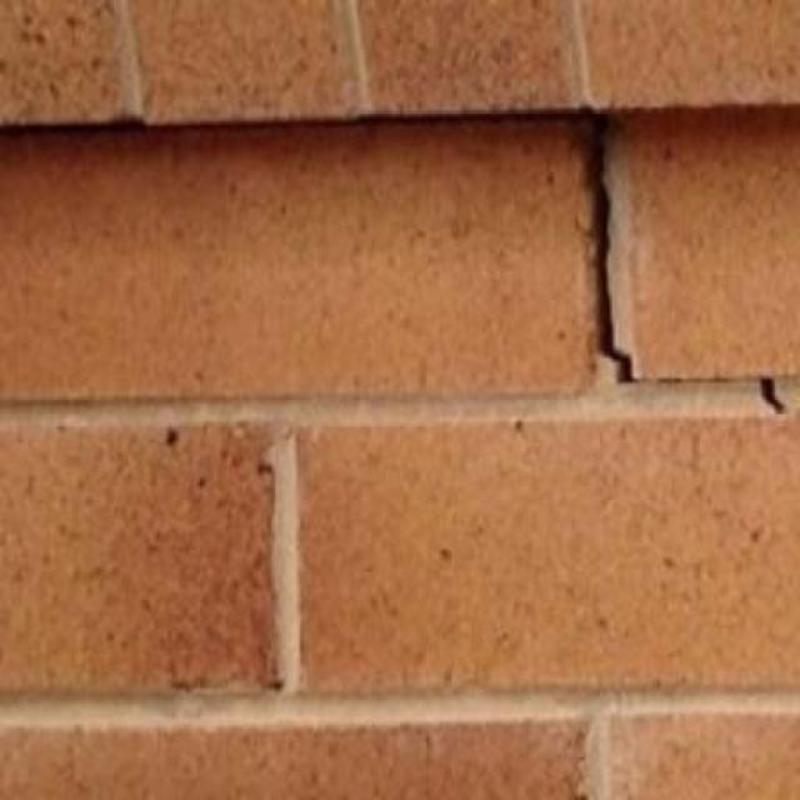crack: (591, 116, 634, 382), (762, 378, 786, 414)
